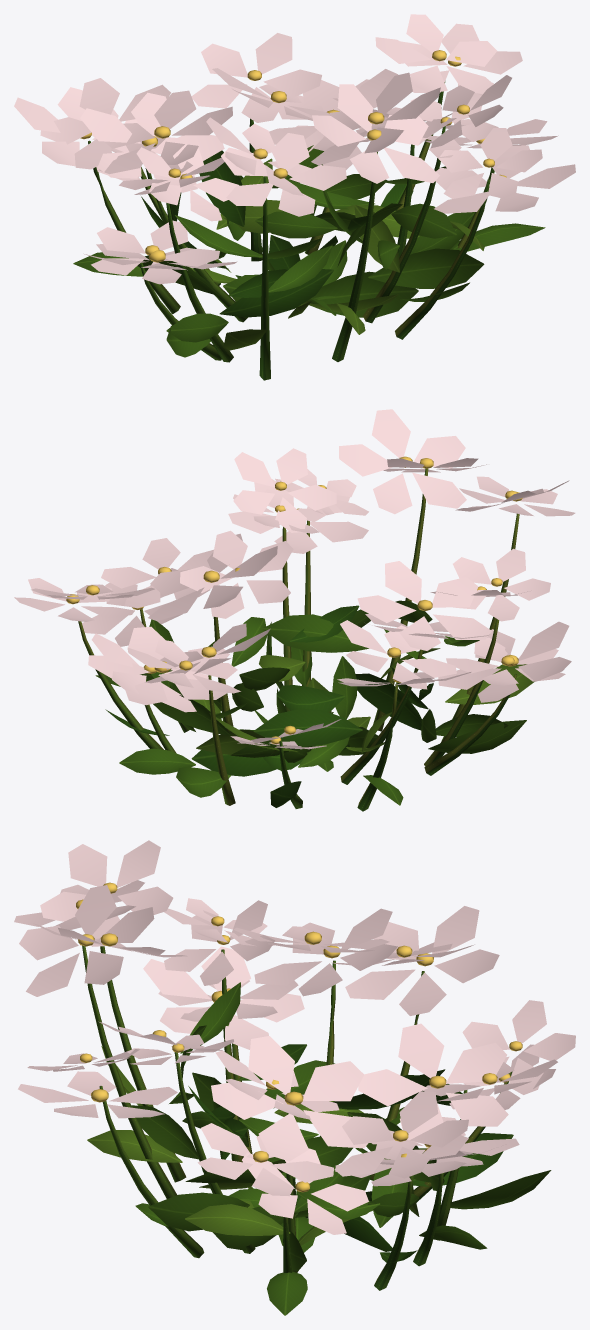
The model's file is Sakura_low_2.glb.
3 renders of one model, top to bottom at view 1: azimuth 30°, elevation 25°; view 2: azimuth 150°, elevation 25°; view 3: azimuth 270°, elevation 25°, orthographic. The views are drawn at different scales.
Visible parts, largest first — view 1: Sakura_low_2_Flowers.003, Sakura_low_2_Leaves.004, Sakura_low_2_Stems.004, Sakura_low_2_Centers.003; view 2: Sakura_low_2_Flowers.003, Sakura_low_2_Leaves.004, Sakura_low_2_Stems.004, Sakura_low_2_Centers.003; view 3: Sakura_low_2_Flowers.003, Sakura_low_2_Leaves.004, Sakura_low_2_Stems.004, Sakura_low_2_Centers.003.
Part boxes in pixels (box(x1,y1,x2,y2)): Sakura_low_2_Flowers.003: box(14, 14, 575, 284); Sakura_low_2_Leaves.004: box(73, 145, 545, 357); Sakura_low_2_Stems.004: box(88, 81, 494, 380); Sakura_low_2_Centers.003: box(80, 50, 506, 262); Sakura_low_2_Flowers.003: box(14, 409, 575, 749); Sakura_low_2_Leaves.004: box(95, 600, 534, 807); Sakura_low_2_Stems.004: box(78, 468, 519, 811); Sakura_low_2_Centers.003: box(66, 456, 522, 744); Sakura_low_2_Flowers.003: box(14, 840, 575, 1234); Sakura_low_2_Leaves.004: box(87, 982, 551, 1315); Sakura_low_2_Stems.004: box(82, 945, 512, 1290); Sakura_low_2_Centers.003: box(76, 882, 522, 1192).
Size of the model in its own units: 1.1 by 0.6211 by 0.9953.
Materials: 3 (1 with a texture image).
